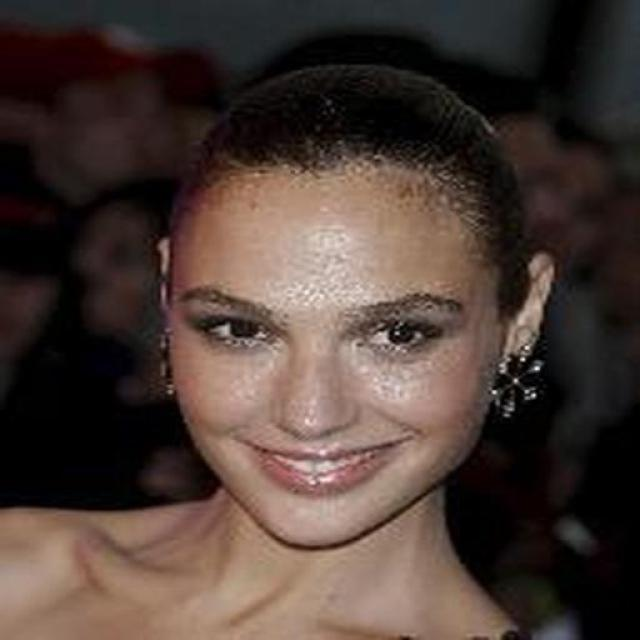bareface: (167, 91, 499, 542)
